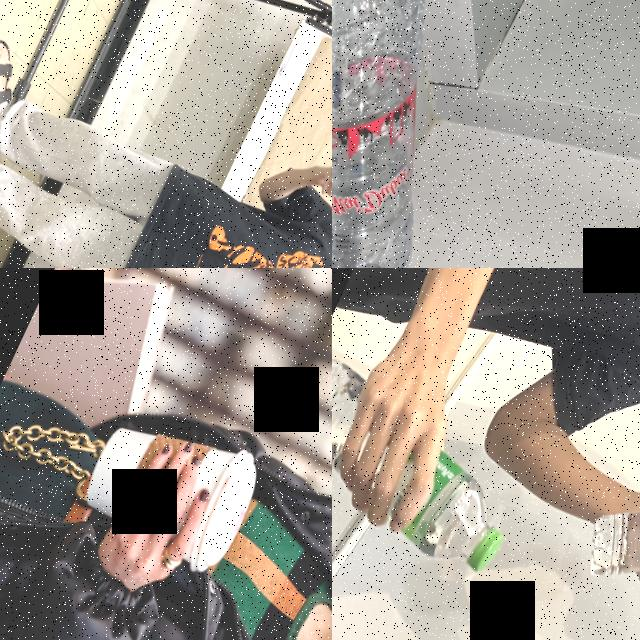bottle: (332, 339, 551, 582), (332, 0, 530, 268), (565, 435, 640, 640)
cup: (67, 392, 273, 584)
